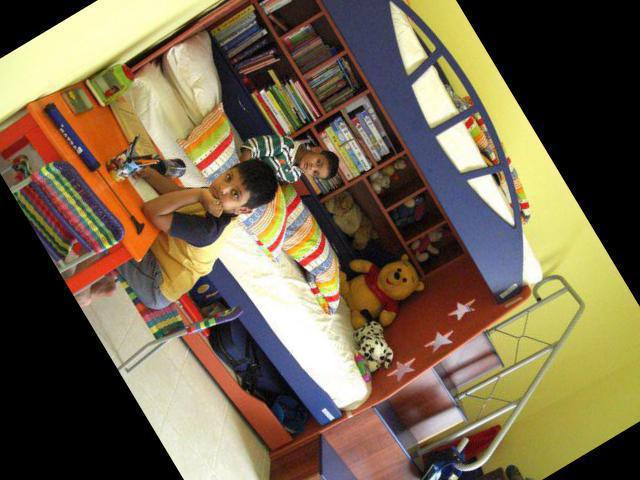Escaleras: (237, 286, 600, 480)
